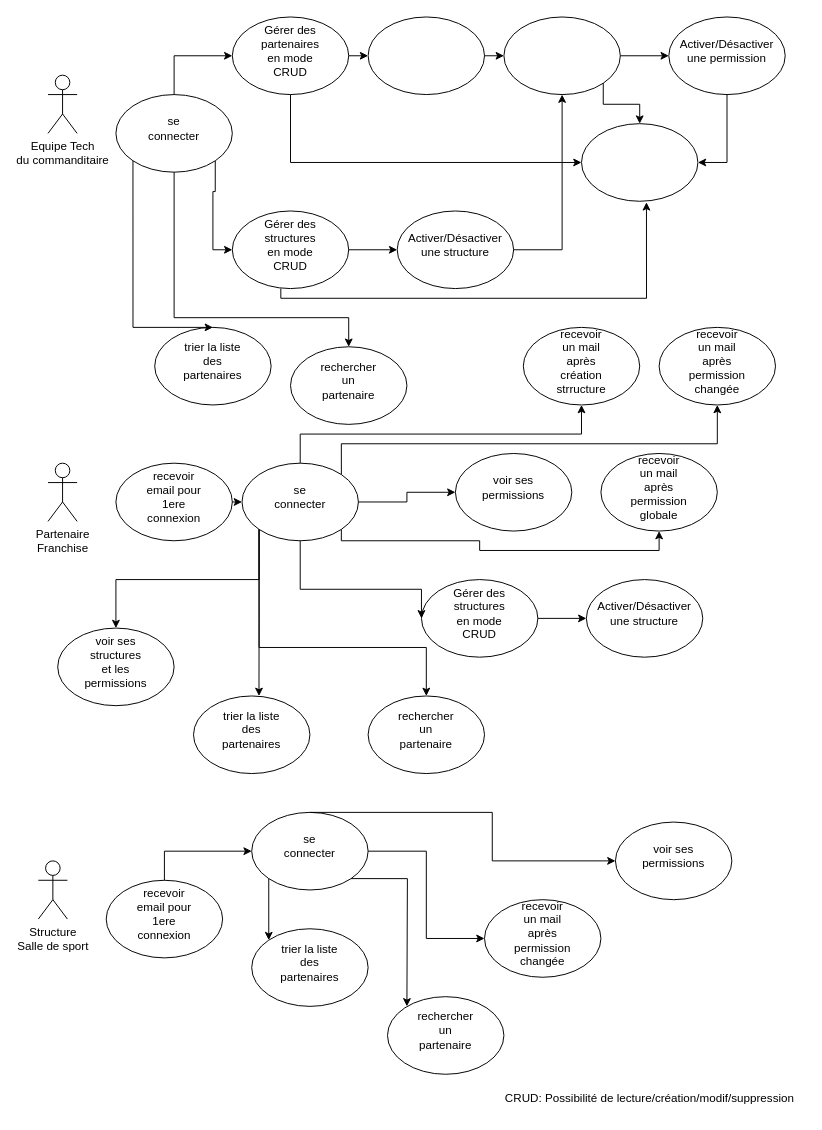
Some shapes in this 822 by 1130 pixel diagram are drawn without their labels. Each missing label, with the centre of its shape:
Activer/Désactiver un partenaire: the point at 426,55
Créer des permissions si actif: the point at 561,55
Envoyer un mail après création/modif: the point at 639,162
